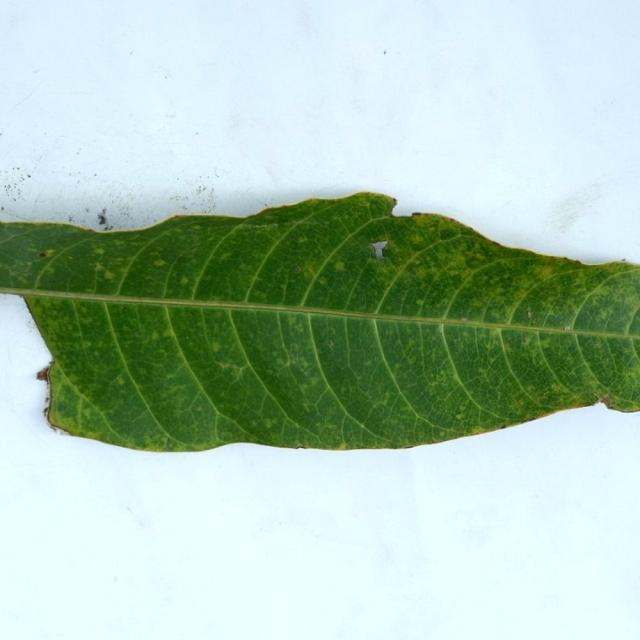Mango: (0, 194, 639, 451)
Powdery_Mildew: (275, 350, 302, 369), (215, 358, 244, 373), (535, 263, 557, 280), (331, 258, 348, 275), (300, 262, 318, 276), (162, 326, 175, 339), (37, 249, 55, 258), (334, 441, 349, 450), (103, 270, 116, 280), (413, 267, 426, 277), (378, 397, 390, 407), (414, 297, 426, 306), (211, 341, 221, 351), (179, 276, 190, 285), (317, 277, 328, 286), (275, 357, 286, 366), (489, 239, 503, 246), (153, 259, 166, 266), (264, 418, 274, 427), (220, 253, 232, 260), (94, 248, 105, 255), (297, 237, 307, 244), (503, 345, 513, 352), (280, 284, 287, 291), (455, 412, 463, 418), (328, 340, 334, 347), (593, 342, 600, 347), (527, 311, 532, 318), (565, 309, 570, 315), (522, 339, 527, 344), (190, 311, 194, 315)
